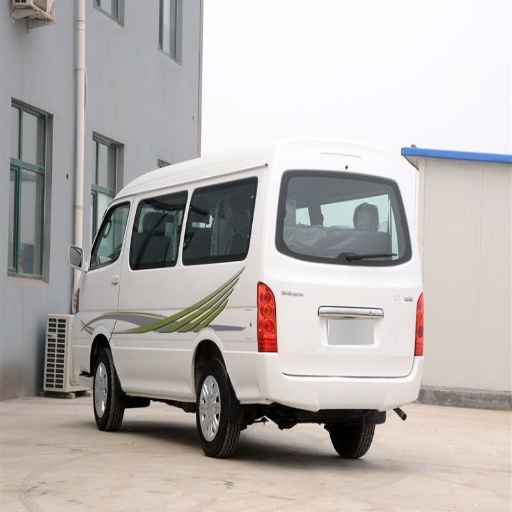back_bumper: (236, 353, 423, 409)
back_glass: (279, 173, 406, 263), (185, 180, 254, 259)
back_left_light: (257, 284, 275, 351)
trunk: (261, 263, 422, 376)
